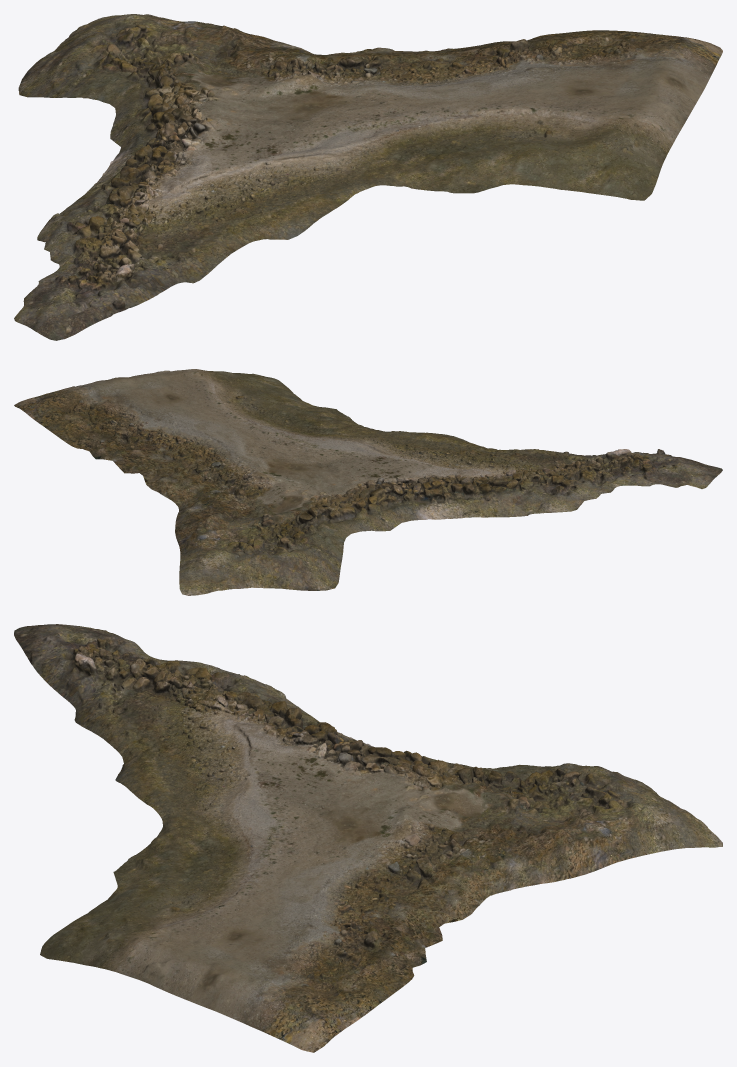
The model's file is coast_rocks_01_LOD2.glb.
3 renders of one model, top to bottom at view 1: azimuth 30°, elevation 25°; view 2: azimuth 150°, elevation 25°; view 3: azimuth 270°, elevation 25°, orthographic. The views are drawn at different scales.
Parts seen in each view (by area): view 1: coast_rocks_01_LOD2; view 2: coast_rocks_01_LOD2; view 3: coast_rocks_01_LOD2.
Boxes of the visible parts, <box> form: coast_rocks_01_LOD2: <box>14,14,722,340</box>; coast_rocks_01_LOD2: <box>14,369,722,595</box>; coast_rocks_01_LOD2: <box>14,624,722,1052</box>.
Bounding box in the file's own units: 59.51 × 3.28 × 42.52.
1 material, 1 textured.
